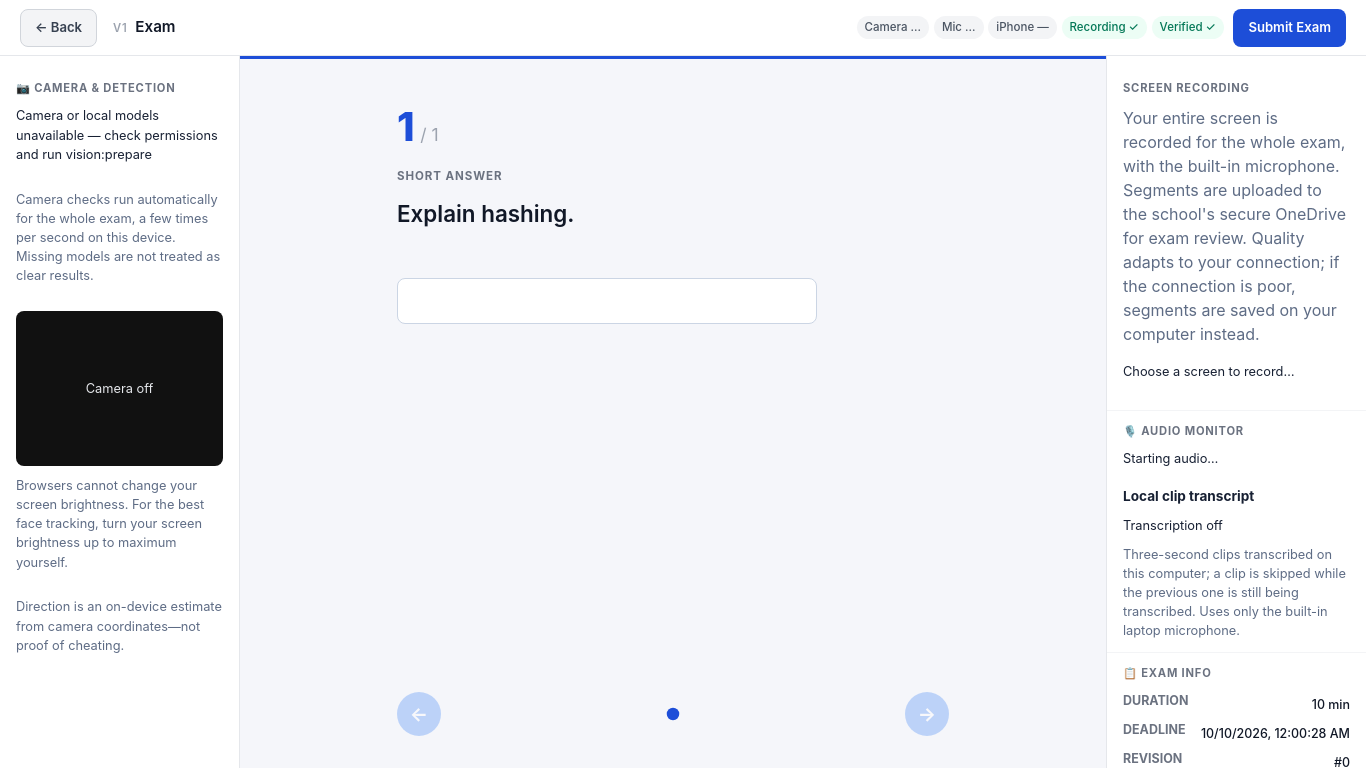
shows a submit error with Retry when the submit request fails, not the recording overlay
This screenshot has width=1366, height=768.
Click the button "Submit Exam".
click(1290, 28)  # box [1233,8,1346,46]
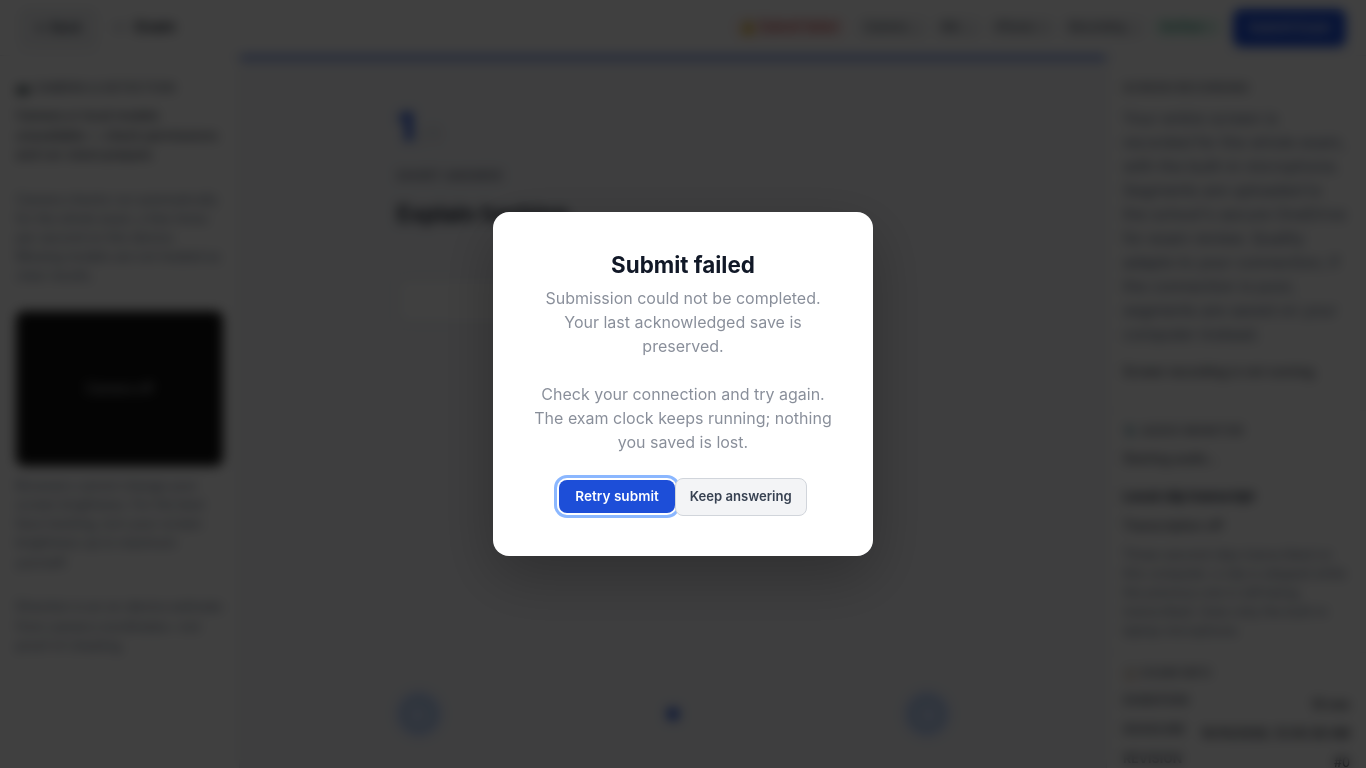
expect the dialog named "Submit failed" is shown: met
expect the dialog named "Submit failed" shows "Submission could not be completed": met, box [546,288,821,356]
expect the button "Retry submit" is shown: met
Click the button "Retry submit".
click(617, 496)  # box [559,480,675,513]
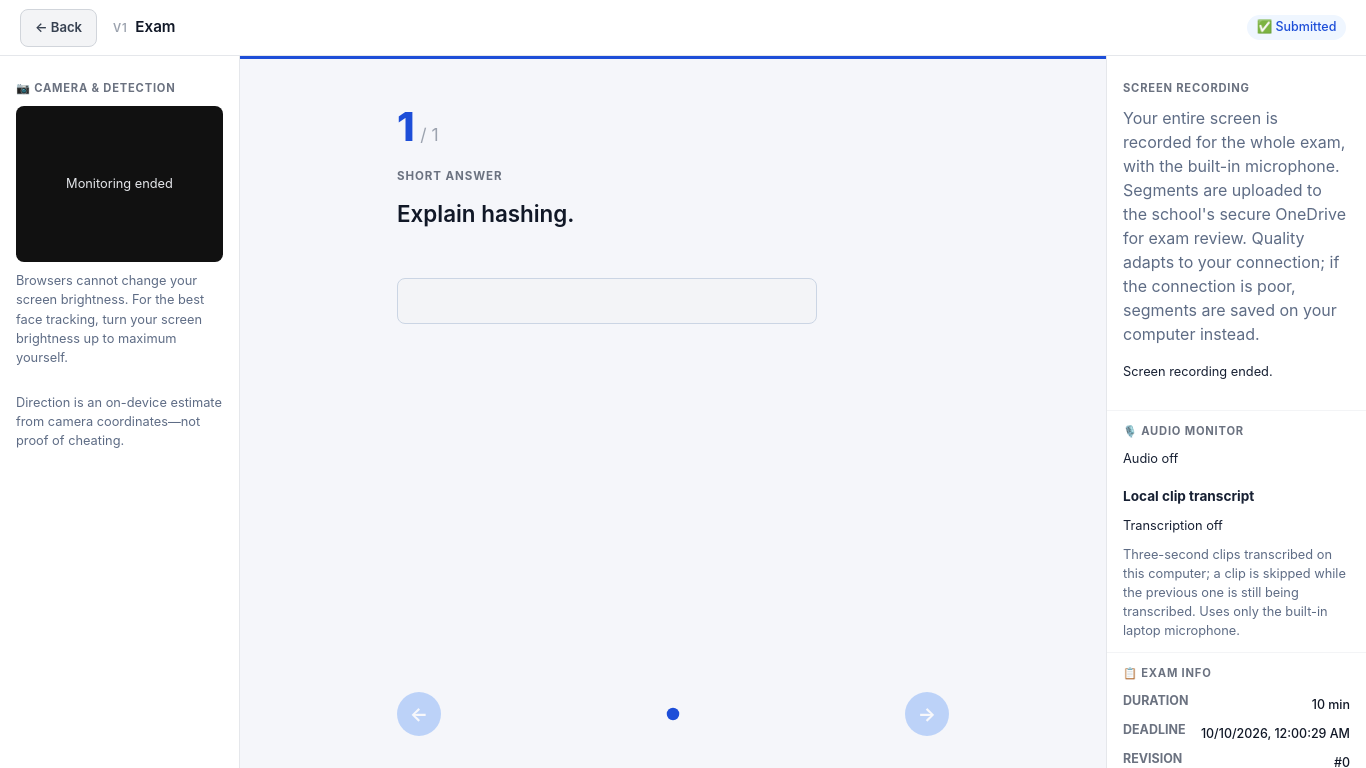
expect the header with class "exam-topbar" shows "Submitted": met, box [1257,19,1336,34]
